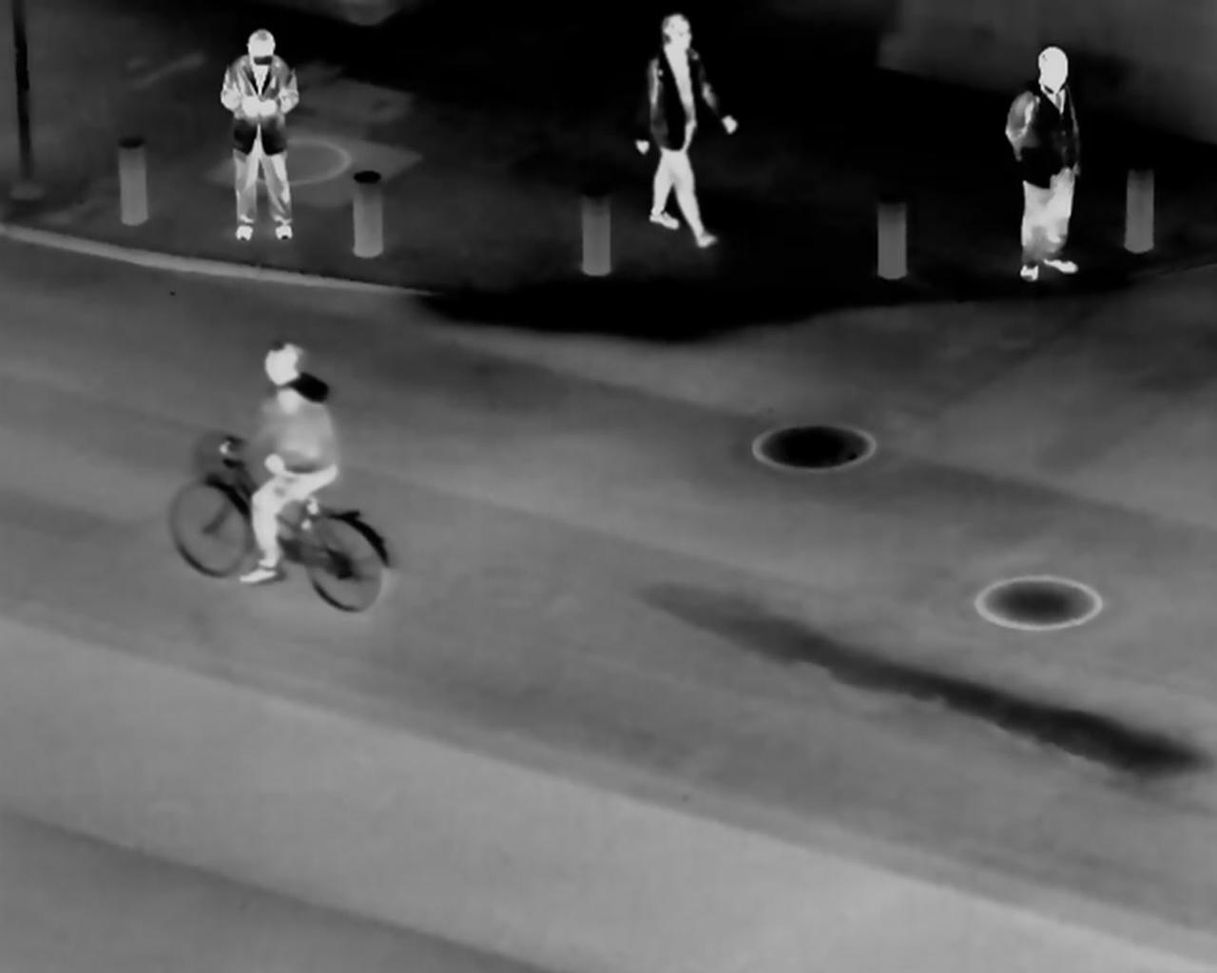person: (235, 334, 341, 603), (632, 11, 731, 253), (999, 38, 1088, 287), (216, 31, 311, 246)
